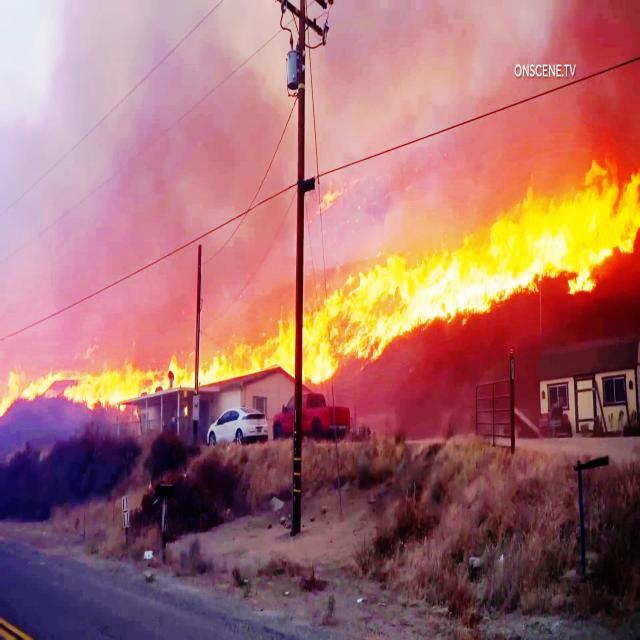Fire: (0, 315, 308, 422), (453, 162, 640, 328), (303, 242, 454, 388)
Smoke: (2, 4, 640, 167), (0, 168, 463, 248), (0, 251, 294, 319)
